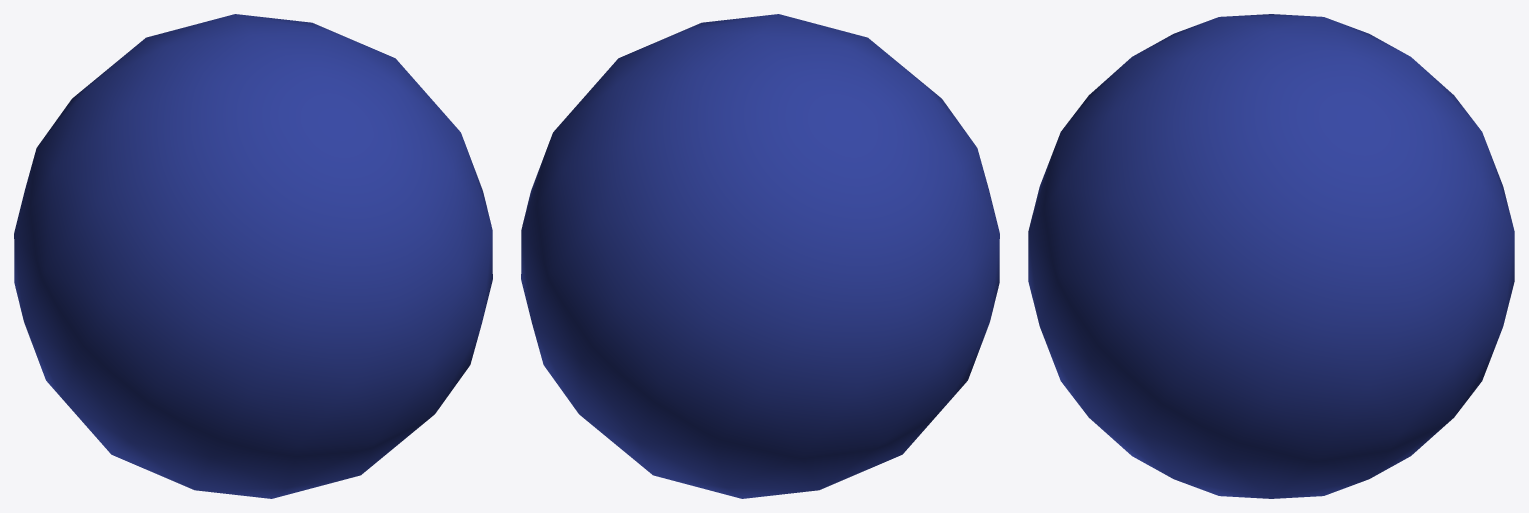
The model's file is Ball.FBX.
3 renders of one model, left to right at view 1: azimuth 30°, elevation 25°; view 2: azimuth 150°, elevation 25°; view 3: azimuth 270°, elevation 25°, orthographic.
Visible parts, largest first — view 1: Ball; view 2: Ball; view 3: Ball.
Part boxes in pixels (x1,y1,x2,y2): Ball: [14, 14, 492, 498]; Ball: [521, 14, 999, 498]; Ball: [1028, 14, 1514, 498].
Bounding box in the file's own units: 0.0258 × 0.0262 × 0.0258.
